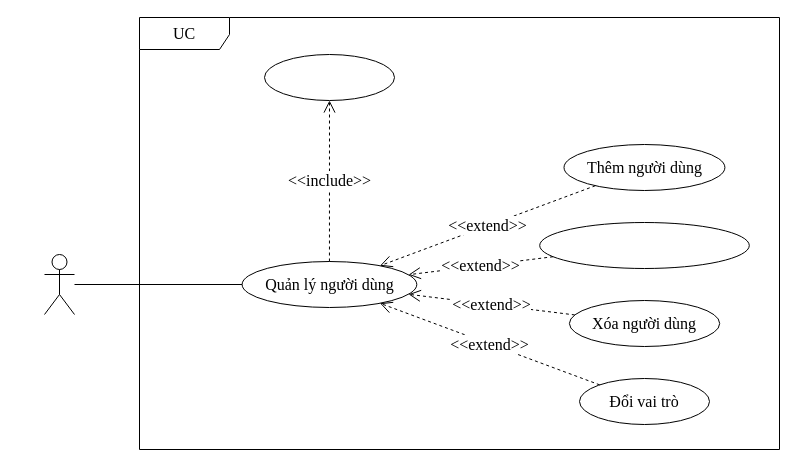
The diagram is 797 pixels wide and 467 high, and some of its shapes have lost their labels. The box of each missing label's shape, as (x1, y1, x2, y2) in pixels:
Quản trị viên: (44, 254, 74, 314)
Sửa thông tin người dùng: (539, 222, 749, 268)
Đăng nhập: (264, 54, 394, 100)
